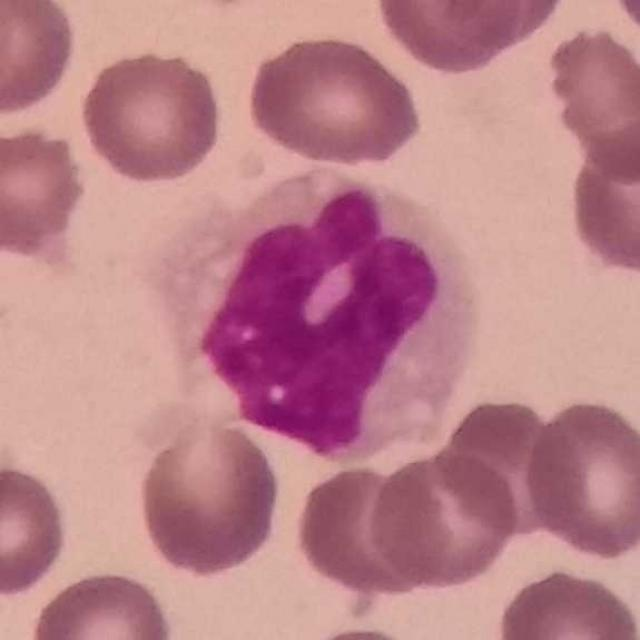mono: (159, 162, 489, 464)
